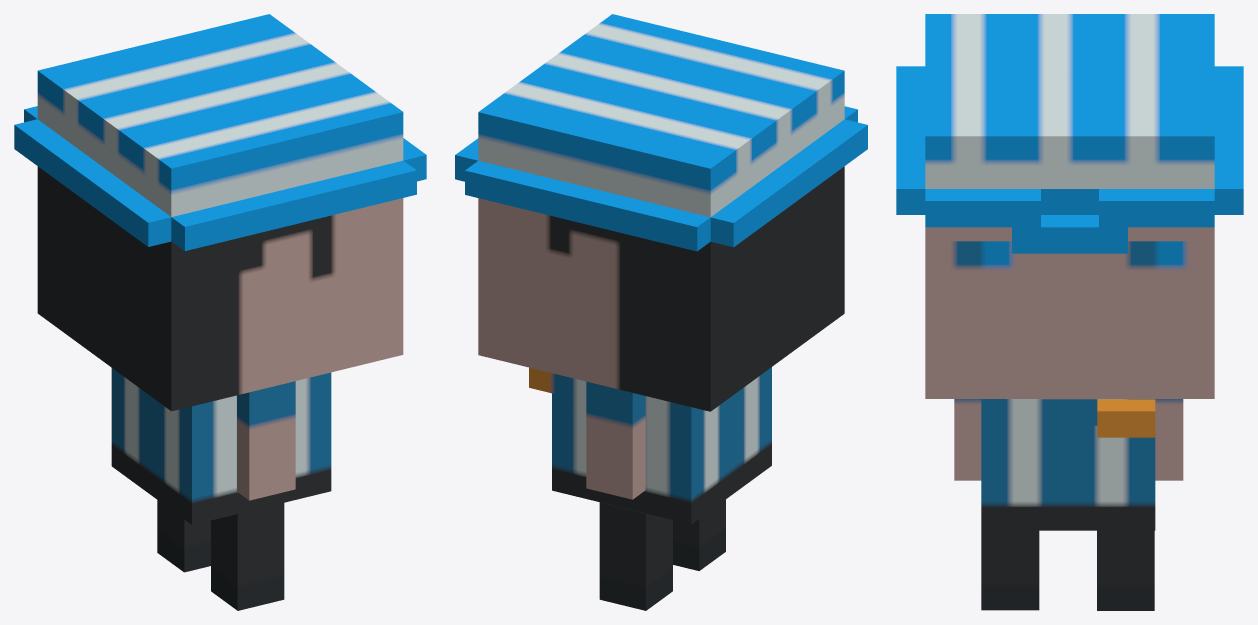
The model's file is char37.fbx.
3 views of the same model, side by side, from view 1: azimuth 30°, elevation 25°; view 2: azimuth 150°, elevation 25°; view 3: azimuth 270°, elevation 25° (orthographic). The views are drawn at different scales.
Parts seen in each view (by area): view 1: Matrix_1, Matrix_2, Matrix_6, Matrix_4, Matrix_5; view 2: Matrix_1, Matrix_2, Matrix_5, Matrix_3, Matrix_6; view 3: Matrix_1, Matrix_2, Matrix_6, Matrix_5, Matrix_3, Matrix_4.
Part boxes in pixels (x1=…): Matrix_1: x1=14, y1=14, x2=426, y2=411; Matrix_2: x1=111, y1=368, x2=331, y2=524; Matrix_6: x1=211, y1=502, x2=284, y2=610; Matrix_4: x1=237, y1=381, x2=295, y2=500; Matrix_5: x1=157, y1=500, x2=210, y2=572; Matrix_1: x1=455, y1=14, x2=867, y2=411; Matrix_2: x1=529, y1=367, x2=771, y2=524; Matrix_5: x1=599, y1=502, x2=672, y2=610; Matrix_3: x1=586, y1=381, x2=645, y2=499; Matrix_6: x1=673, y1=499, x2=725, y2=570; Matrix_1: x1=896, y1=14, x2=1243, y2=398; Matrix_2: x1=981, y1=399, x2=1155, y2=530; Matrix_6: x1=981, y1=530, x2=1039, y2=610; Matrix_5: x1=1097, y1=530, x2=1154, y2=610; Matrix_3: x1=1155, y1=399, x2=1183, y2=480; Matrix_4: x1=954, y1=399, x2=981, y2=480.
Size of the model in its own units: 12 by 19.96 by 12.
Materials: 1 (1 with a texture image).
